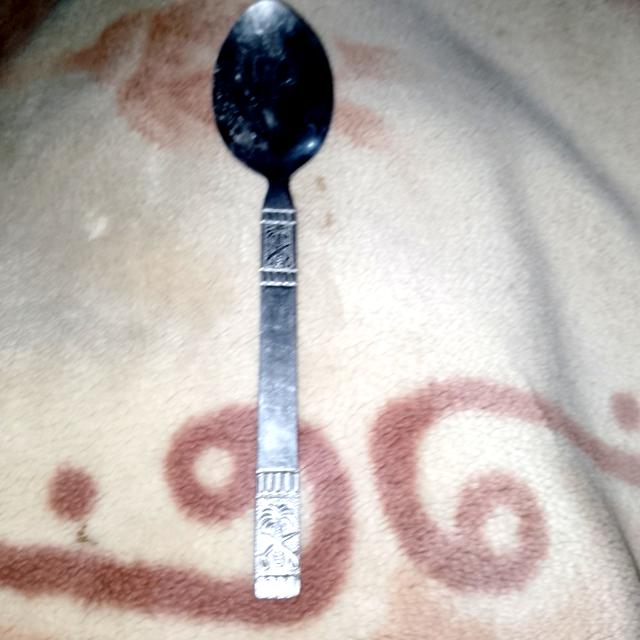Spoon: (213, 0, 333, 599)
